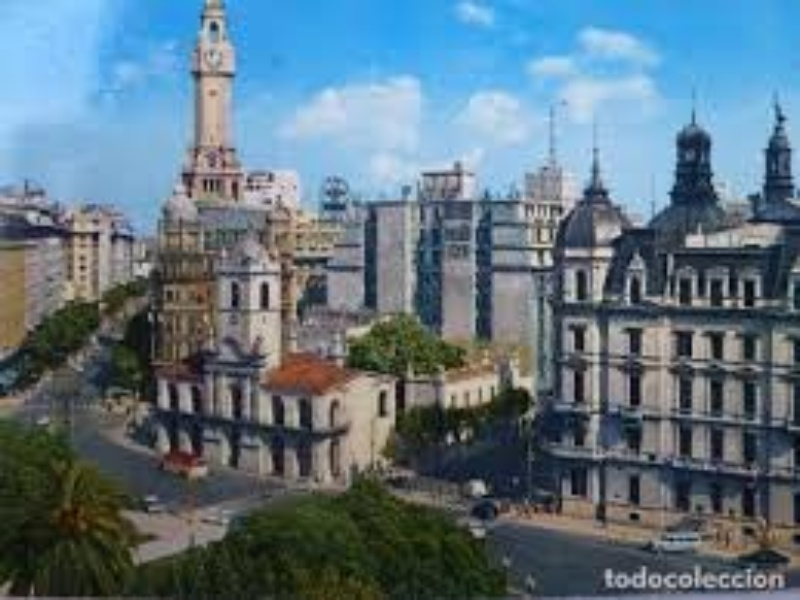cabildo: (150, 221, 352, 481)
